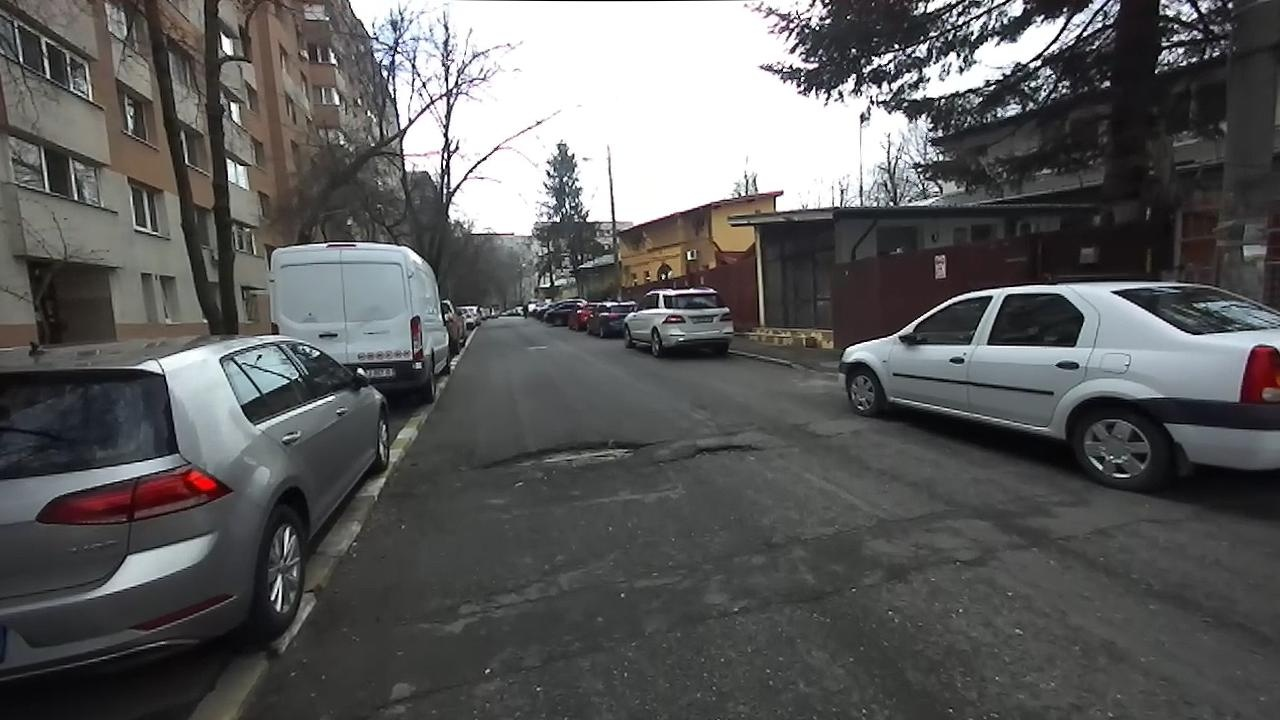pothole: (473, 437, 653, 479), (677, 441, 765, 465)
